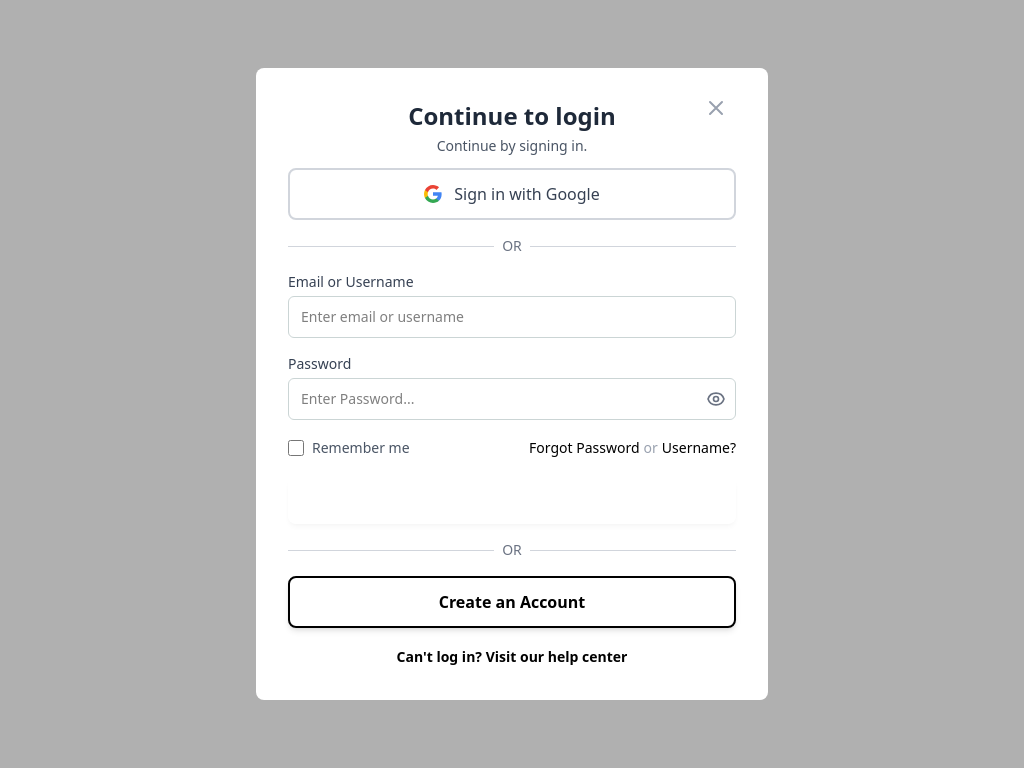
Test case: EmbeddedLoginForm Component › should open create account when clicking Create an Account button
The width and height of the screenshot is (1024, 768).
Click the button "Create an Account" at (512, 602), box [288,576,736,628]
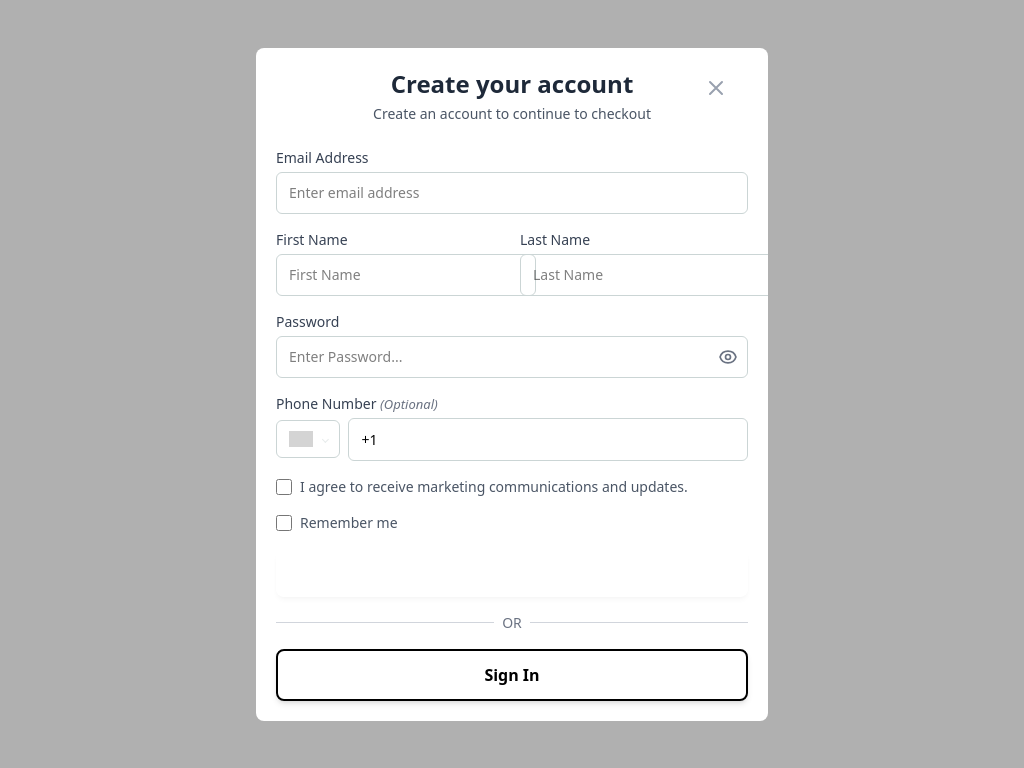
Result: the form named "Create account form" is shown at [276,148,748,700]
